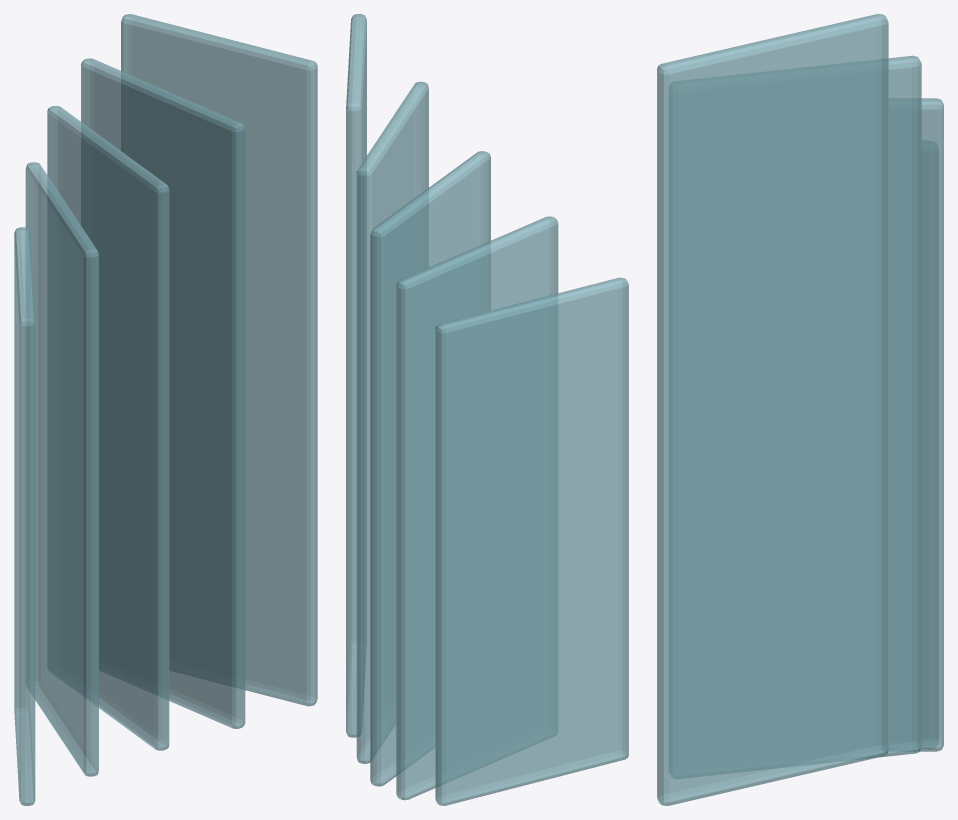
The model's file is volume-crystal.glb.
The picture shows the model from 3 angles, left to right: view 1: azimuth 30°, elevation 25°; view 2: azimuth 150°, elevation 25°; view 3: azimuth 270°, elevation 25°; orthographic projection. The views are drawn at different scales.
Visible parts, largest first — view 1: LMW_Volume_plate_4, LMW_Volume_plate_3, LMW_Volume_plate_2, LMW_Volume_plate_1, LMW_Volume_plate_0; view 2: LMW_Volume_plate_0, LMW_Volume_plate_1, LMW_Volume_plate_2, LMW_Volume_plate_3, LMW_Volume_plate_4; view 3: LMW_Volume_plate_3, LMW_Volume_plate_4, LMW_Volume_plate_2, LMW_Volume_plate_1.
Boxes of the visible parts, x1,y1,x2,y2 form: LMW_Volume_plate_4: [121, 14, 317, 706]; LMW_Volume_plate_3: [81, 58, 245, 728]; LMW_Volume_plate_2: [47, 105, 169, 750]; LMW_Volume_plate_1: [25, 162, 98, 776]; LMW_Volume_plate_0: [14, 227, 35, 805]; LMW_Volume_plate_0: [435, 277, 628, 805]; LMW_Volume_plate_1: [396, 216, 558, 800]; LMW_Volume_plate_2: [370, 151, 490, 786]; LMW_Volume_plate_3: [356, 81, 428, 763]; LMW_Volume_plate_4: [346, 14, 366, 737]; LMW_Volume_plate_3: [669, 55, 921, 778]; LMW_Volume_plate_4: [657, 14, 888, 805]; LMW_Volume_plate_2: [889, 98, 943, 751]; LMW_Volume_plate_1: [922, 141, 938, 748].
Size of the model in its own units: 3.09 by 7 by 2.32.
